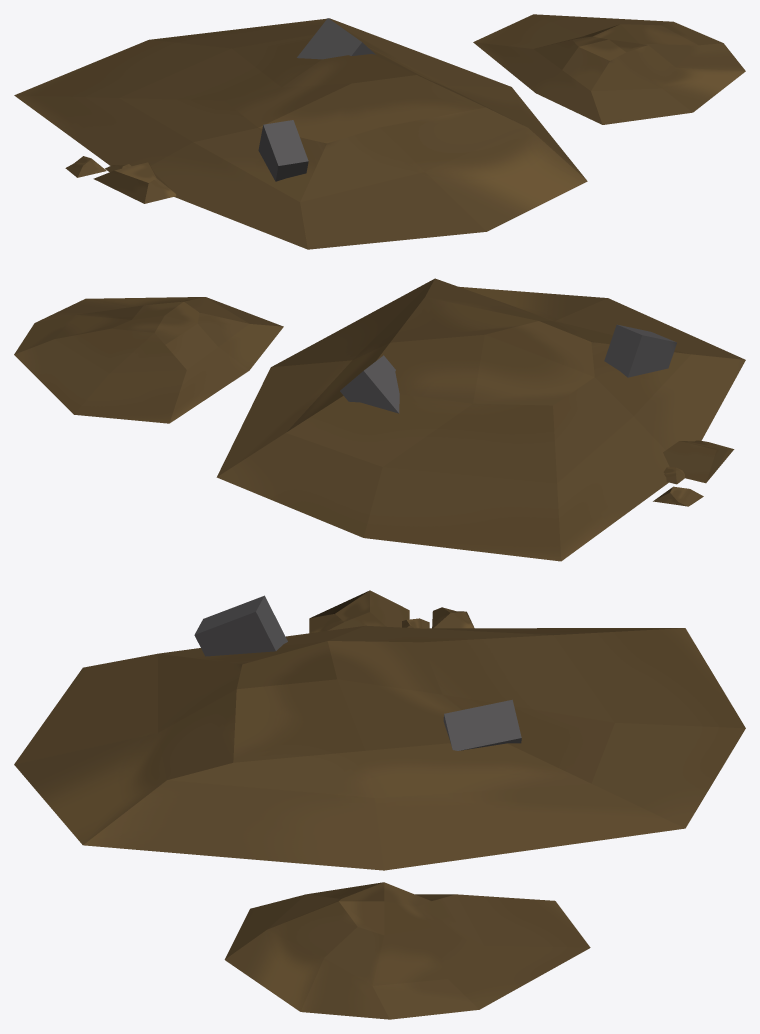
File: entulho.obj
The picture shows the model from 3 angles, top to bottom: view 1: azimuth 30°, elevation 25°; view 2: azimuth 150°, elevation 25°; view 3: azimuth 270°, elevation 25°; orthographic projection. The views are drawn at different scales.
Visible parts, largest first — view 1: Cube.001_Cube.005, Cube_Cube.006; view 2: Cube.001_Cube.005, Cube_Cube.006; view 3: Cube.001_Cube.005, Cube_Cube.006.
Part boxes in pixels (bbox=[...]): Cube.001_Cube.005: bbox=[14, 18, 587, 249]; Cube_Cube.006: bbox=[473, 14, 745, 124]; Cube.001_Cube.005: bbox=[216, 278, 745, 561]; Cube_Cube.006: bbox=[14, 297, 283, 423]; Cube.001_Cube.005: bbox=[14, 590, 745, 870]; Cube_Cube.006: bbox=[224, 882, 590, 1019].
Size of the model in its own units: 18.44 by 2.2 by 14.27.
